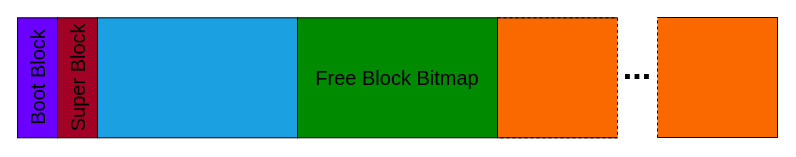
This 796x157 diagram has some shape labels left out. The shapes that lost their labels are listed below. From the top down, each one's centre as x and y in pixels, then its label:
At (197,77): "Inode Bitmap".
At (557,77): "Data and Inode Blocks".
